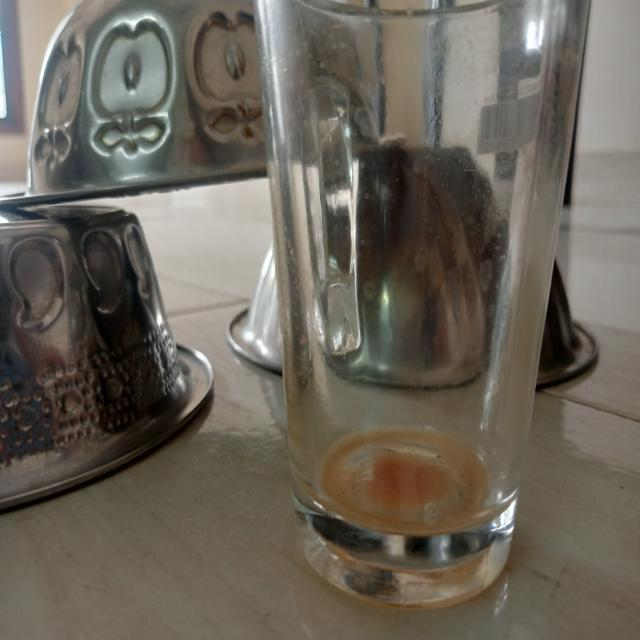glass-VX4N: (255, 0, 591, 612)
